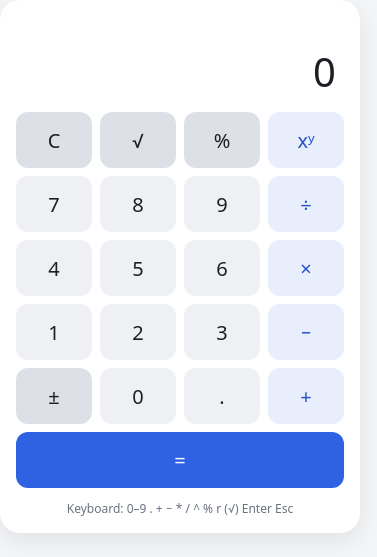
Scenario: Calculator › calculates with button clicks: 2 + 3 = 5
Click the button "2".
click(138, 332)  # box [100,304,176,360]
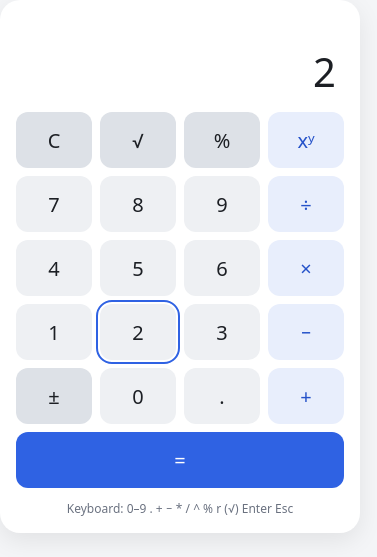
Click the button named "add".
click(306, 396)  # box [268,368,344,424]
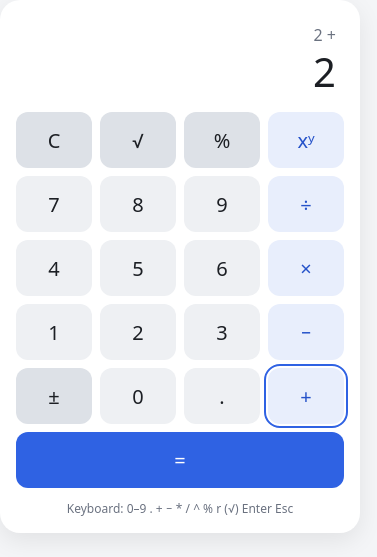
Check: the text with test id "expression" reads "2 +", box [314,24,336,46]
Click the button "3".
click(222, 332)  # box [184,304,260,360]
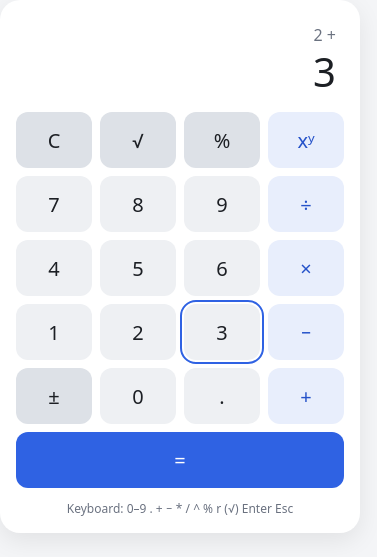
Click the button named "equals".
click(180, 460)  # box [16,432,344,488]
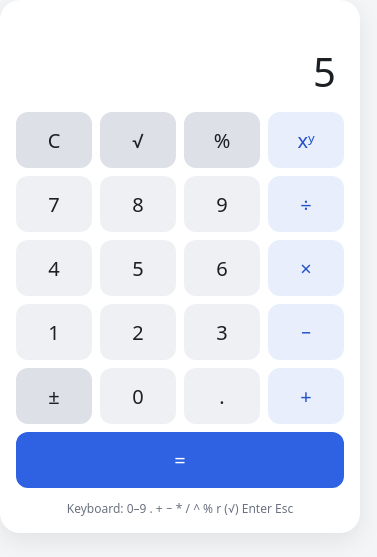
Check: the text "5" is shown, box [313,44,336,99]
